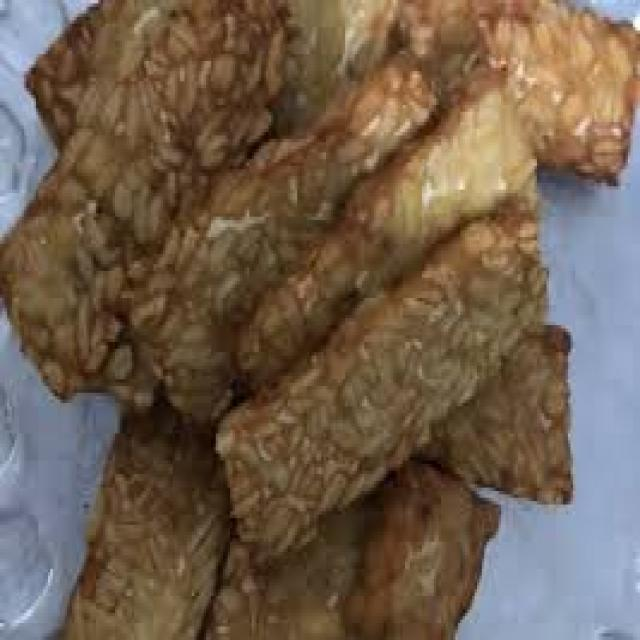Tempe Goreng: (47, 4, 546, 610)
